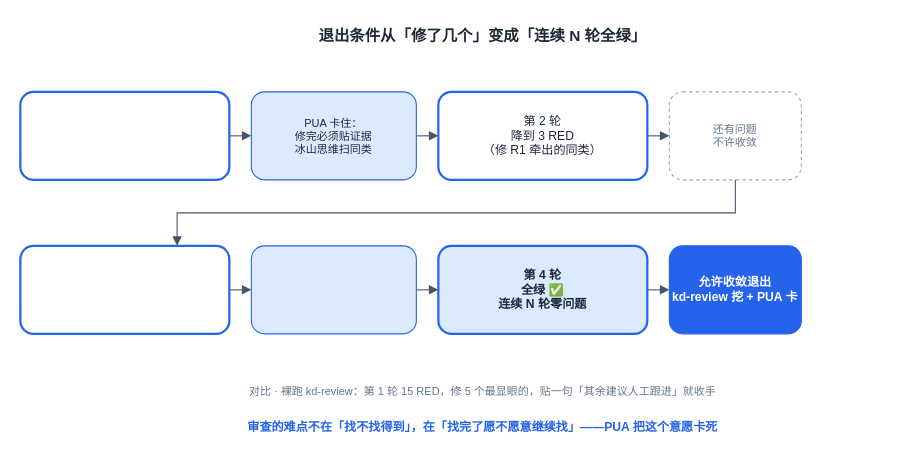
Some shapes in this 919 by 470 pixel diagram are drawn without their labels. The centre of each missing label's shape, as x and y in pixels:
PUA 卡住： RCA 诊断行 + 5 步穷尽 补边界值用例: point 333,289
第 1 轮 15 RED + 28 YELLOW 11 agent 并行扫: point 124,135
第 3 轮 还剩 1 YELLOW （IFNULL 边界值没测）: point 124,289
